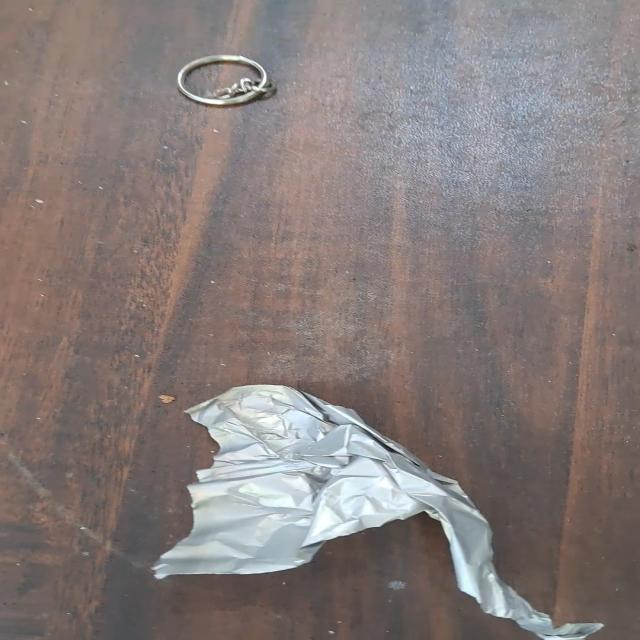Anorganik: (139, 376, 616, 640), (160, 48, 293, 118)
